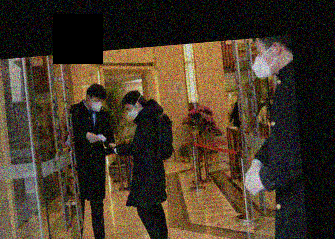with_mask: (251, 42, 275, 80), (90, 96, 105, 113), (126, 105, 139, 118), (261, 96, 266, 104)
